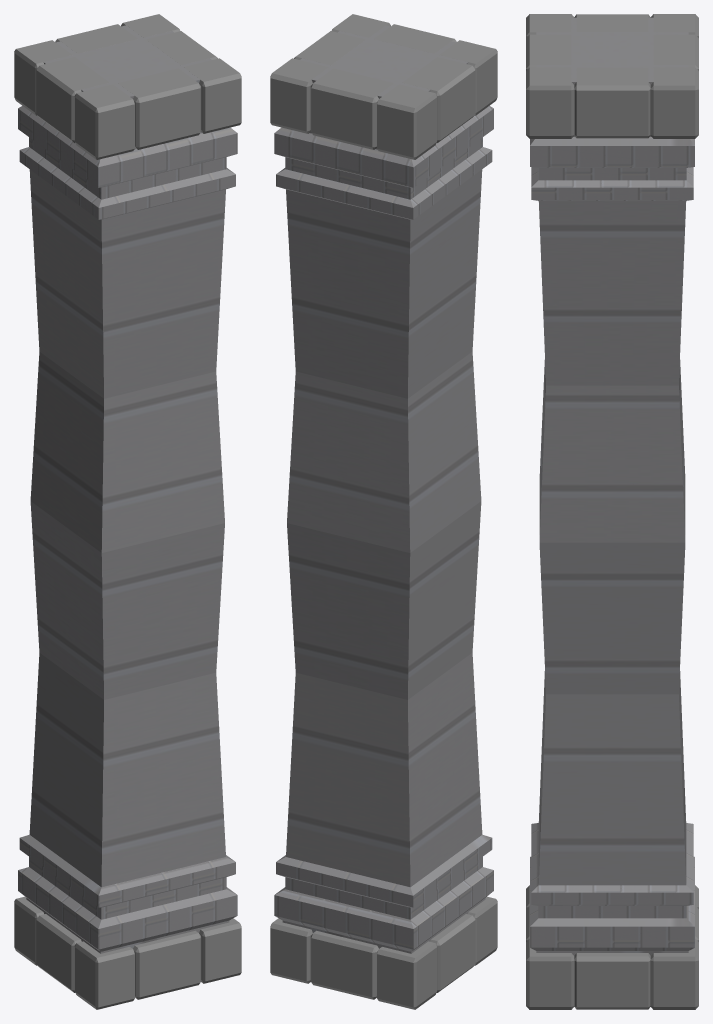
The model's file is pillar.fbx.
3 views of the same model, side by side, from view 1: azimuth 30°, elevation 25°; view 2: azimuth 150°, elevation 25°; view 3: azimuth 270°, elevation 25° (orthographic). The views are drawn at different scales.
Parts seen in each view (by area): view 1: Pillar; view 2: Pillar; view 3: Pillar.
Boxes of the visible parts, <box> form: Pillar: <box>14,14,241,1009</box>; Pillar: <box>270,14,497,1009</box>; Pillar: <box>526,14,698,1009</box>.
Bounding box in the file's own units: 1383 × 8061 × 1366.
